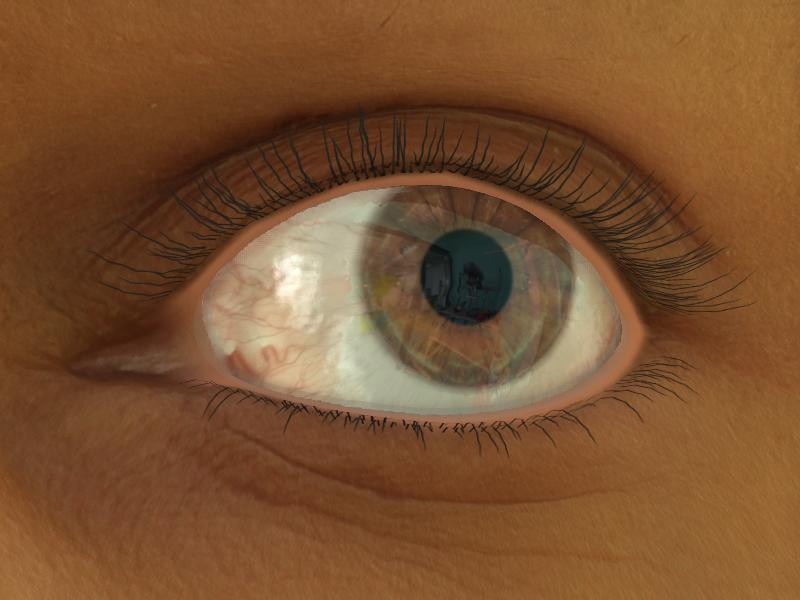eye: (361, 169, 570, 390)
